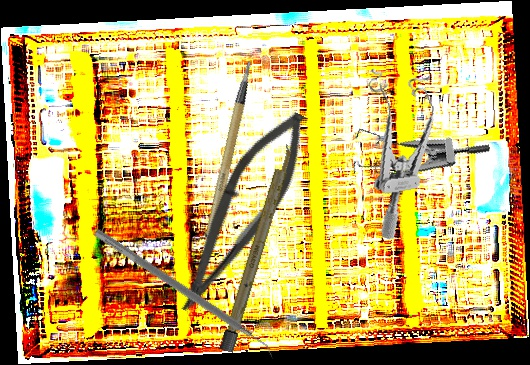Micro Scissor: (166, 98, 321, 328)
Scalpel Handle: (173, 60, 284, 266), (219, 143, 296, 353)
Spatula Surgical: (88, 228, 282, 362)
Speculum: (355, 58, 455, 242), (340, 88, 492, 200)
